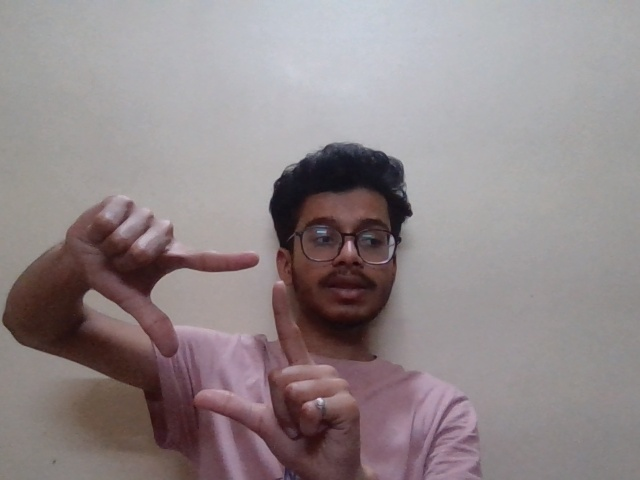video: (59, 189, 376, 454)
